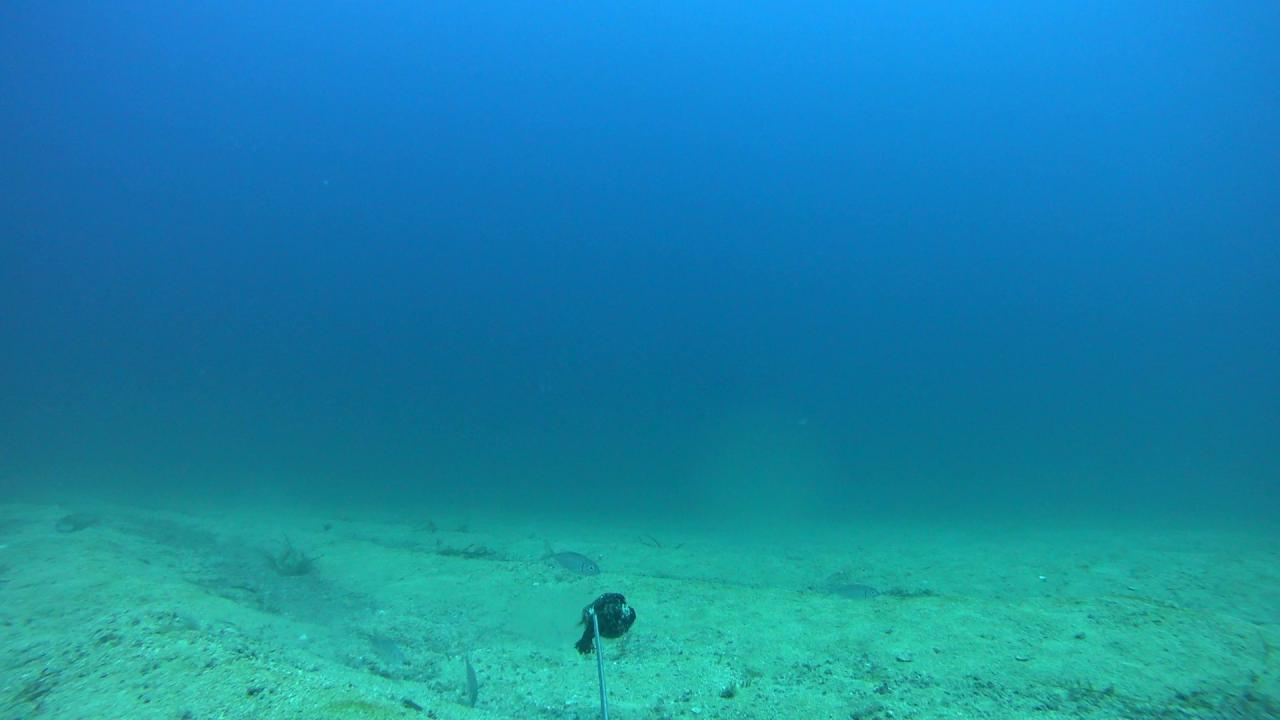pagellus: (538, 538, 601, 578), (822, 581, 880, 601)
